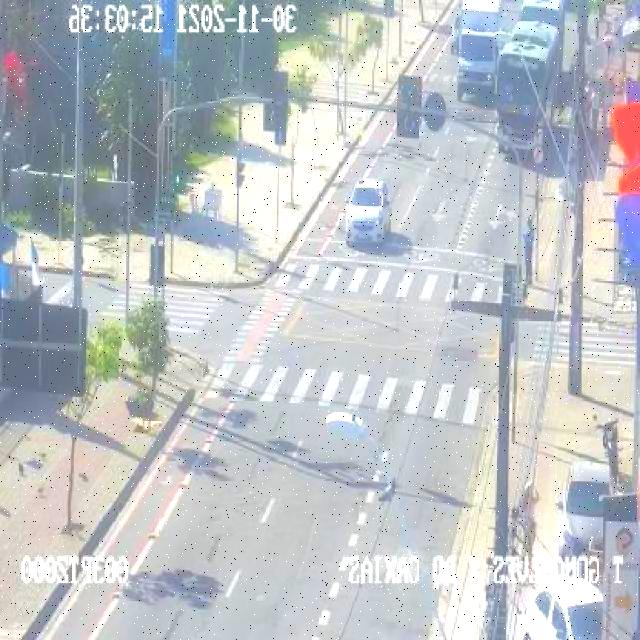Bus: (491, 4, 568, 175)
Car: (560, 452, 638, 562), (522, 552, 608, 640), (331, 179, 395, 257)
Truck: (449, 2, 504, 118)
